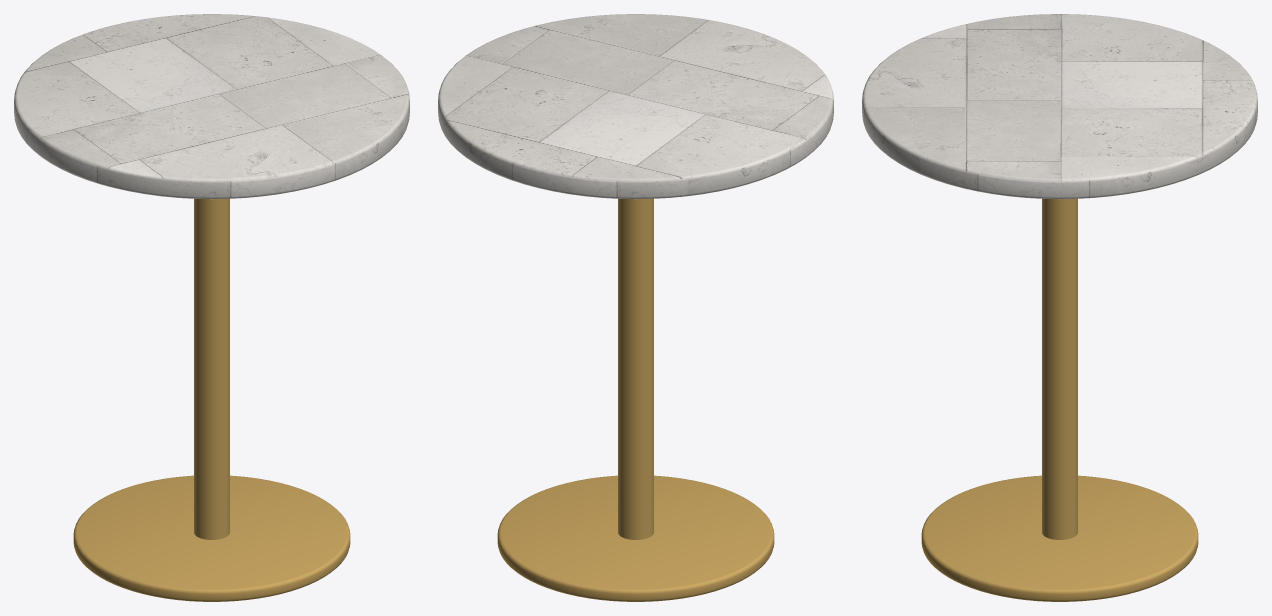
File: side-marble.glb
The picture shows the model from 3 angles, left to right: view 1: azimuth 30°, elevation 25°; view 2: azimuth 150°, elevation 25°; view 3: azimuth 270°, elevation 25°; orthographic projection.
Parts seen in each view (by area): view 1: top, foot, stem; view 2: top, foot, stem; view 3: top, foot, stem.
Boxes of the visible parts, bbox=[...] form: top: bbox=[14, 14, 409, 199]; foot: bbox=[73, 475, 350, 601]; stem: bbox=[194, 199, 229, 539]; top: bbox=[438, 14, 833, 199]; foot: bbox=[497, 475, 774, 601]; stem: bbox=[618, 199, 653, 539]; top: bbox=[862, 14, 1257, 199]; foot: bbox=[921, 475, 1198, 601]; stem: bbox=[1042, 199, 1077, 539].
Size of the model in its own units: 0.44 by 0.55 by 0.44.
Materials: 2 (1 with a texture image).
